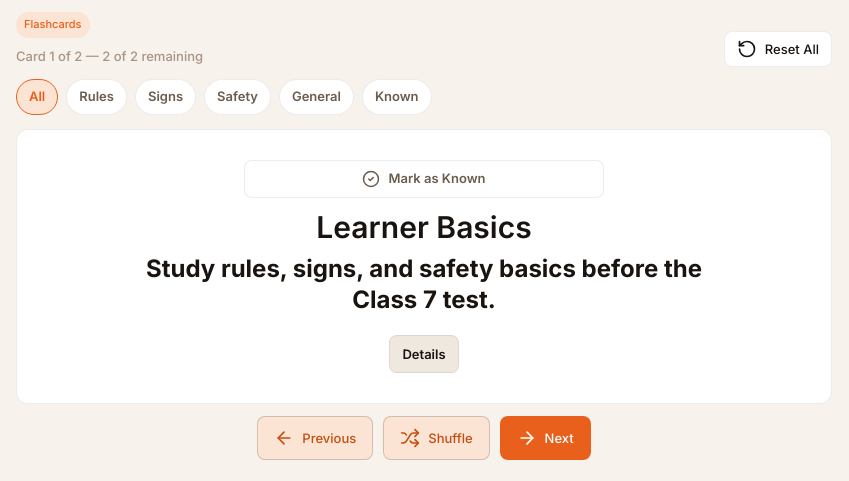
FlashcardsClient › shows all marked cards on the Known tab
Check: the text "Card 1 of 2 — 2 of 2 remaining" is shown, box x1=16 y1=46 x2=203 y2=67
Click the button "Mark as Known" at (424, 179), box x1=244 y1=160 x2=604 y2=198
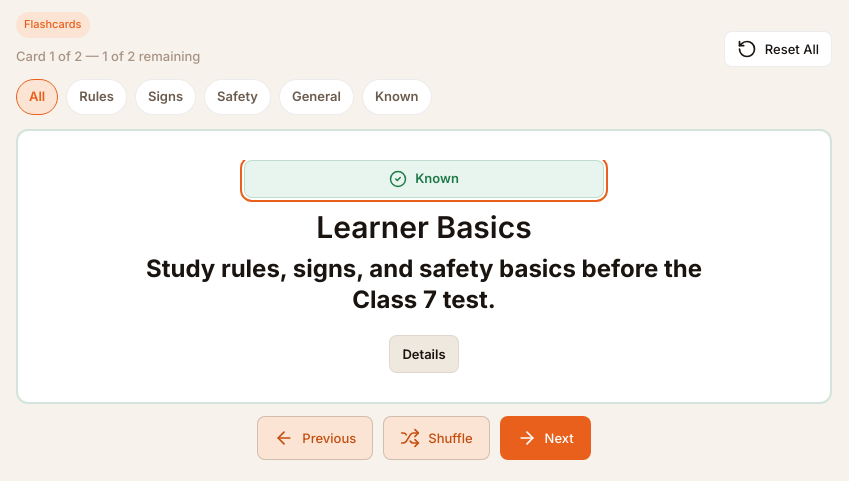
Click the button with aria-label "next flashcard" at (545, 438), box x1=500 y1=416 x2=591 y2=460
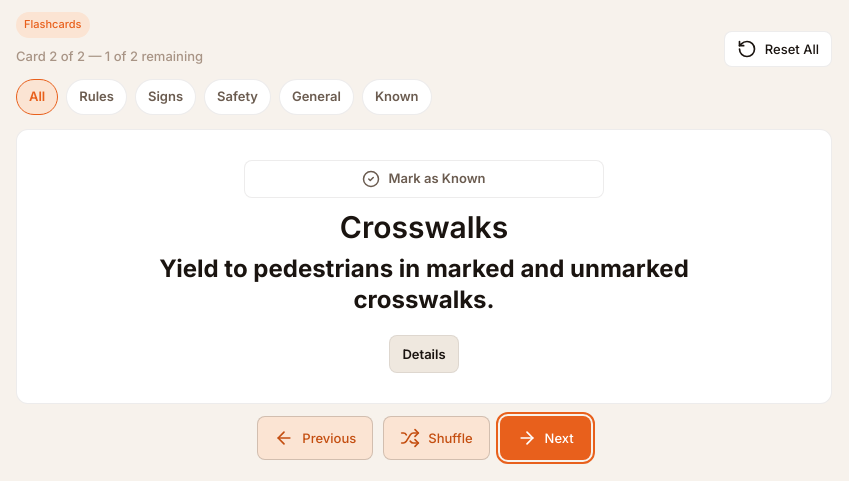
Click the button "Mark as Known" at (424, 179), box x1=244 y1=160 x2=604 y2=198
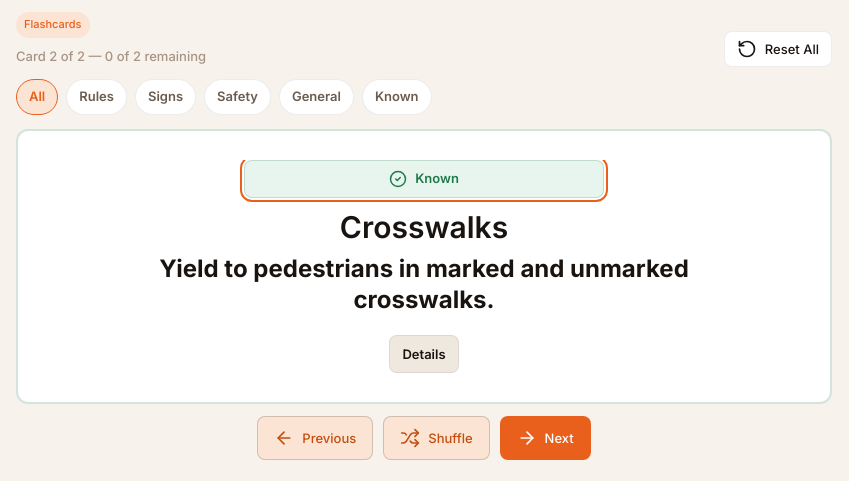
Click the 1st button "Known" at (397, 97), box x1=362 y1=79 x2=432 y2=115
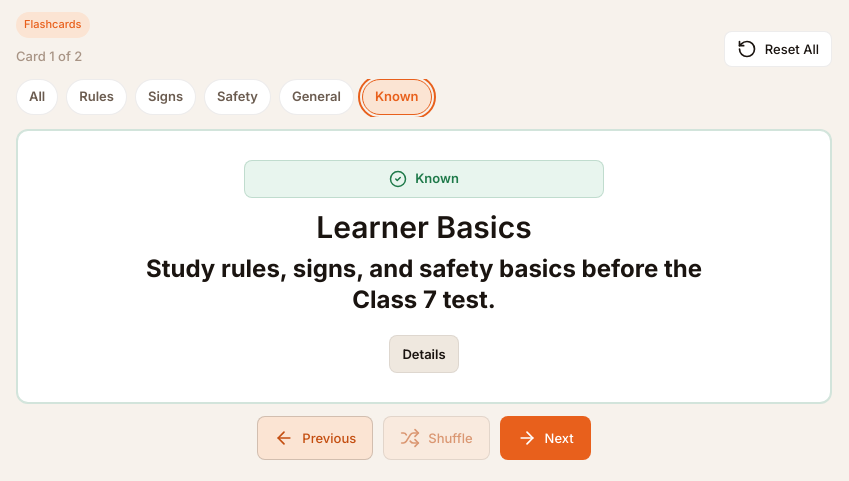
Check: the text "Card 1 of 2" is shown, box x1=16 y1=46 x2=90 y2=67
Check: the button with aria-label "shuffle flashcards" is disabled, box x1=383 y1=416 x2=490 y2=460
